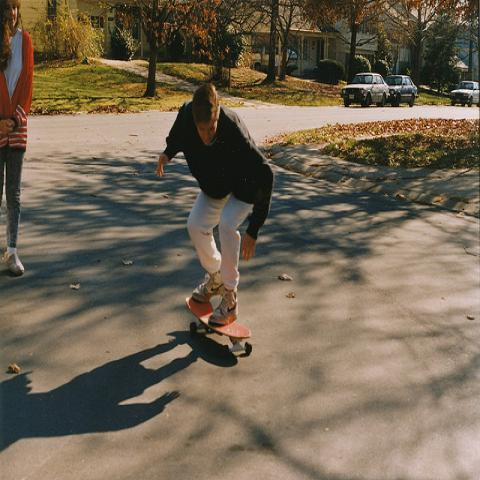car: (341, 73, 390, 106), (385, 75, 419, 107), (448, 77, 480, 109)
